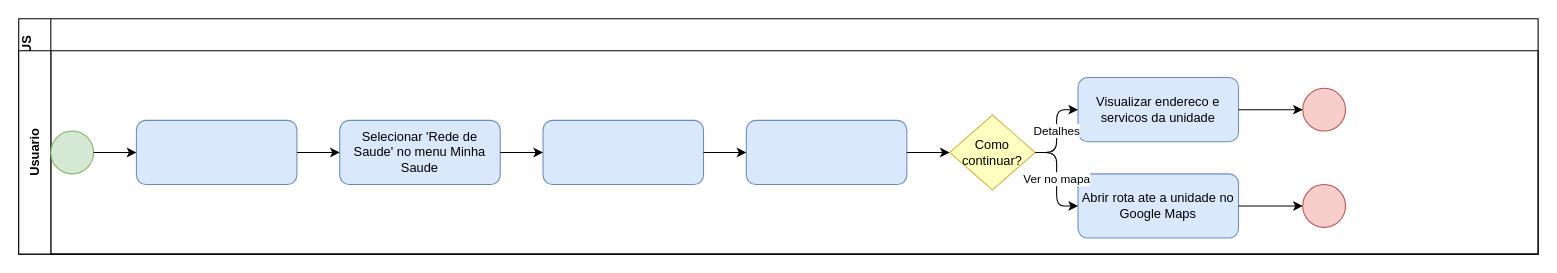
This 1557x273 diagram has some shape labels left out. The shapes that lost their labels are listed below. From the top down, each one's centre as x and y in pixels, then its label:
At (x=216, y=152): "Fazer login com Gov.br".
At (x=623, y=152): "Selecionar categoria de estabelecimento (ex: Maternidade)".
At (x=826, y=152): "Visualizar mapa e lista de unidades proximas".
